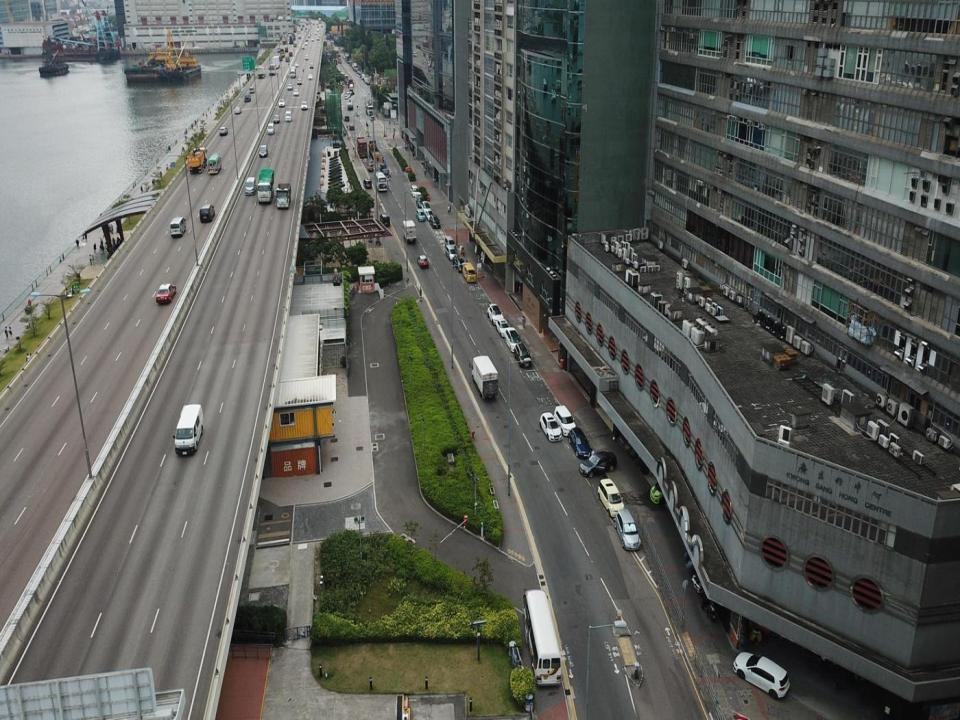bus: (521, 587, 563, 687), (374, 170, 387, 192)
car: (732, 649, 790, 699), (578, 450, 619, 479), (613, 508, 639, 551), (598, 478, 623, 516), (538, 411, 564, 444), (567, 425, 590, 459), (555, 404, 575, 436), (155, 282, 177, 304), (513, 343, 530, 368), (504, 327, 520, 353), (485, 302, 502, 326), (494, 316, 511, 338), (444, 244, 458, 260), (378, 211, 391, 228), (416, 254, 428, 270), (429, 213, 441, 229), (415, 207, 426, 223), (444, 235, 455, 250), (454, 256, 465, 270), (258, 144, 268, 158), (414, 194, 424, 207), (408, 184, 418, 197), (363, 176, 372, 190), (420, 201, 430, 213), (218, 125, 228, 136), (424, 208, 432, 221), (366, 162, 374, 172), (243, 93, 251, 102), (273, 114, 280, 124), (301, 100, 308, 110), (347, 100, 354, 110), (278, 98, 284, 108), (307, 72, 313, 82), (234, 106, 241, 114), (292, 89, 300, 96), (249, 86, 255, 94), (348, 124, 354, 132), (297, 77, 302, 86), (287, 83, 292, 91), (288, 50, 293, 58), (309, 62, 314, 69), (285, 55, 290, 62), (300, 44, 305, 50), (294, 61, 298, 68), (293, 41, 297, 48), (304, 54, 308, 60), (284, 47, 288, 53), (276, 47, 280, 52)
truck: (468, 354, 498, 401), (257, 167, 275, 205), (186, 146, 208, 176), (274, 183, 292, 209), (401, 219, 417, 245), (357, 135, 368, 159), (367, 140, 380, 159), (364, 102, 374, 115), (257, 65, 266, 78), (271, 55, 280, 68), (268, 64, 276, 76), (290, 65, 297, 78), (279, 48, 285, 58), (282, 34, 287, 45), (288, 35, 292, 44)
van: (172, 402, 205, 456), (168, 216, 186, 238), (207, 152, 223, 176), (461, 262, 476, 284), (199, 203, 215, 223), (243, 176, 256, 196), (266, 122, 275, 136), (284, 110, 291, 123)
